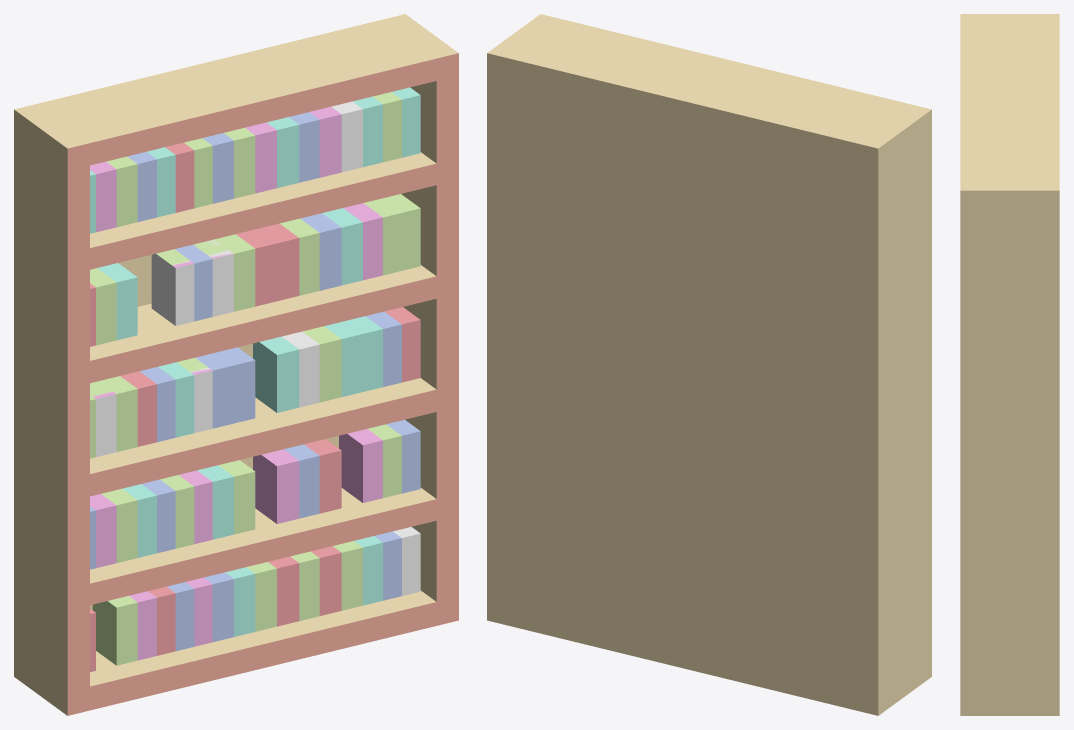
Rendered from Bookshelf.fbx.
3 renders of one model, left to right at view 1: azimuth 30°, elevation 25°; view 2: azimuth 150°, elevation 25°; view 3: azimuth 270°, elevation 25°, orthographic. The views are drawn at different scales.
Visible parts, largest first — view 1: Bookshelf; view 2: Bookshelf; view 3: Bookshelf.
Part boxes in pixels (x1,y1,x2,y2): Bookshelf: [14, 14, 458, 715]; Bookshelf: [487, 14, 931, 715]; Bookshelf: [960, 14, 1059, 715].
Size of the model in its own units: 325 by 451 by 77.08.
